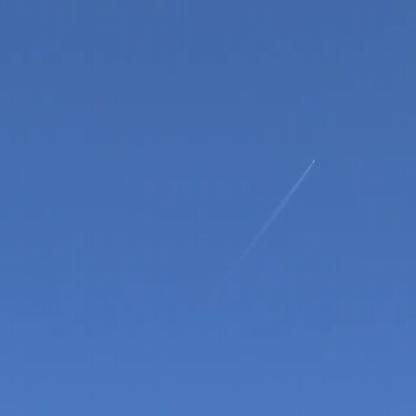CIV_Plane: (308, 152, 318, 168)
